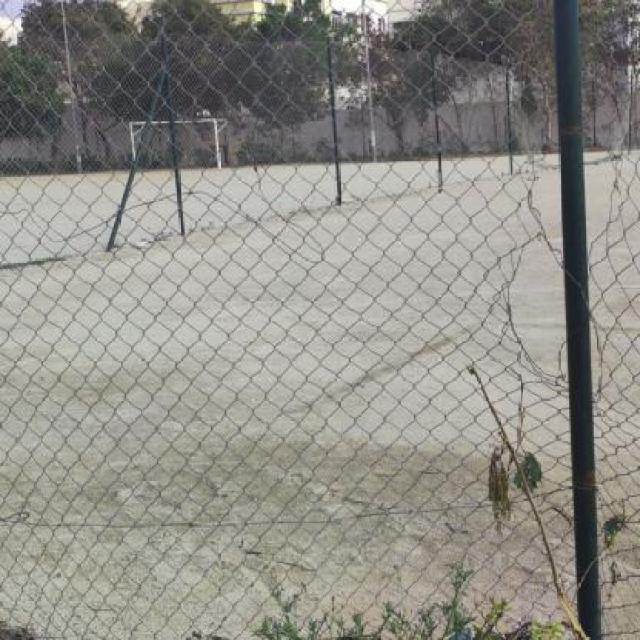fence line: (501, 252, 613, 389), (521, 138, 619, 239)
